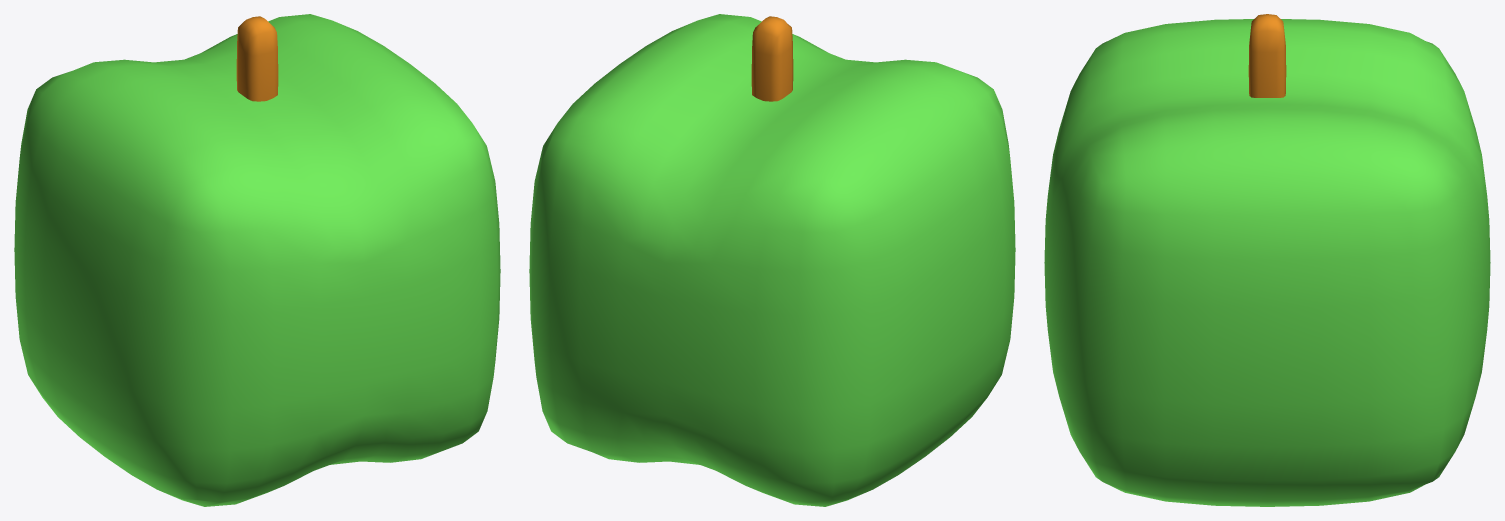
The model's file is Apple.fbx.
The picture shows the model from 3 angles, left to right: view 1: azimuth 30°, elevation 25°; view 2: azimuth 150°, elevation 25°; view 3: azimuth 270°, elevation 25°; orthographic projection. The views are drawn at different scales.
Parts seen in each view (by area): view 1: Cube, Cube.001; view 2: Cube, Cube.001; view 3: Cube, Cube.001.
Part boxes in pixels (x1,y1,x2,y2): Cube: (14, 14, 500, 506); Cube.001: (236, 16, 278, 101); Cube: (529, 14, 1015, 506); Cube.001: (751, 16, 793, 101); Cube: (1044, 19, 1490, 506); Cube.001: (1248, 14, 1286, 97).
Bounding box in the file's own units: 196 × 211 × 196.
